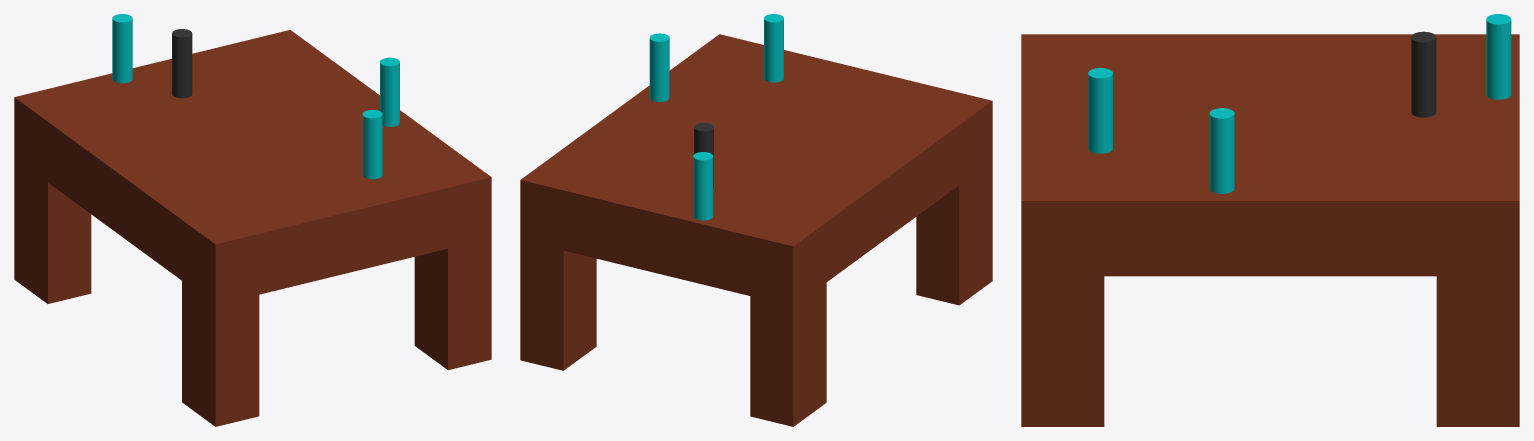
Rendered from can_world.dae.
The picture shows the model from 3 angles, left to right: view 1: azimuth 30°, elevation 25°; view 2: azimuth 150°, elevation 25°; view 3: azimuth 270°, elevation 25°; orthographic projection. The views are drawn at different scales.
Parts seen in each view (by area): view 1: base (×8); view 2: base (×8); view 3: base (×7).
Boxes of the visible parts, left/top/right/bottom form: base (×8): left=14, top=14, right=491, bottom=426; base (×8): left=520, top=14, right=992, bottom=426; base (×7): left=1021, top=14, right=1519, bottom=426.
Bounding box in the file's own units: 0.95 × 1.2 × 0.8.
